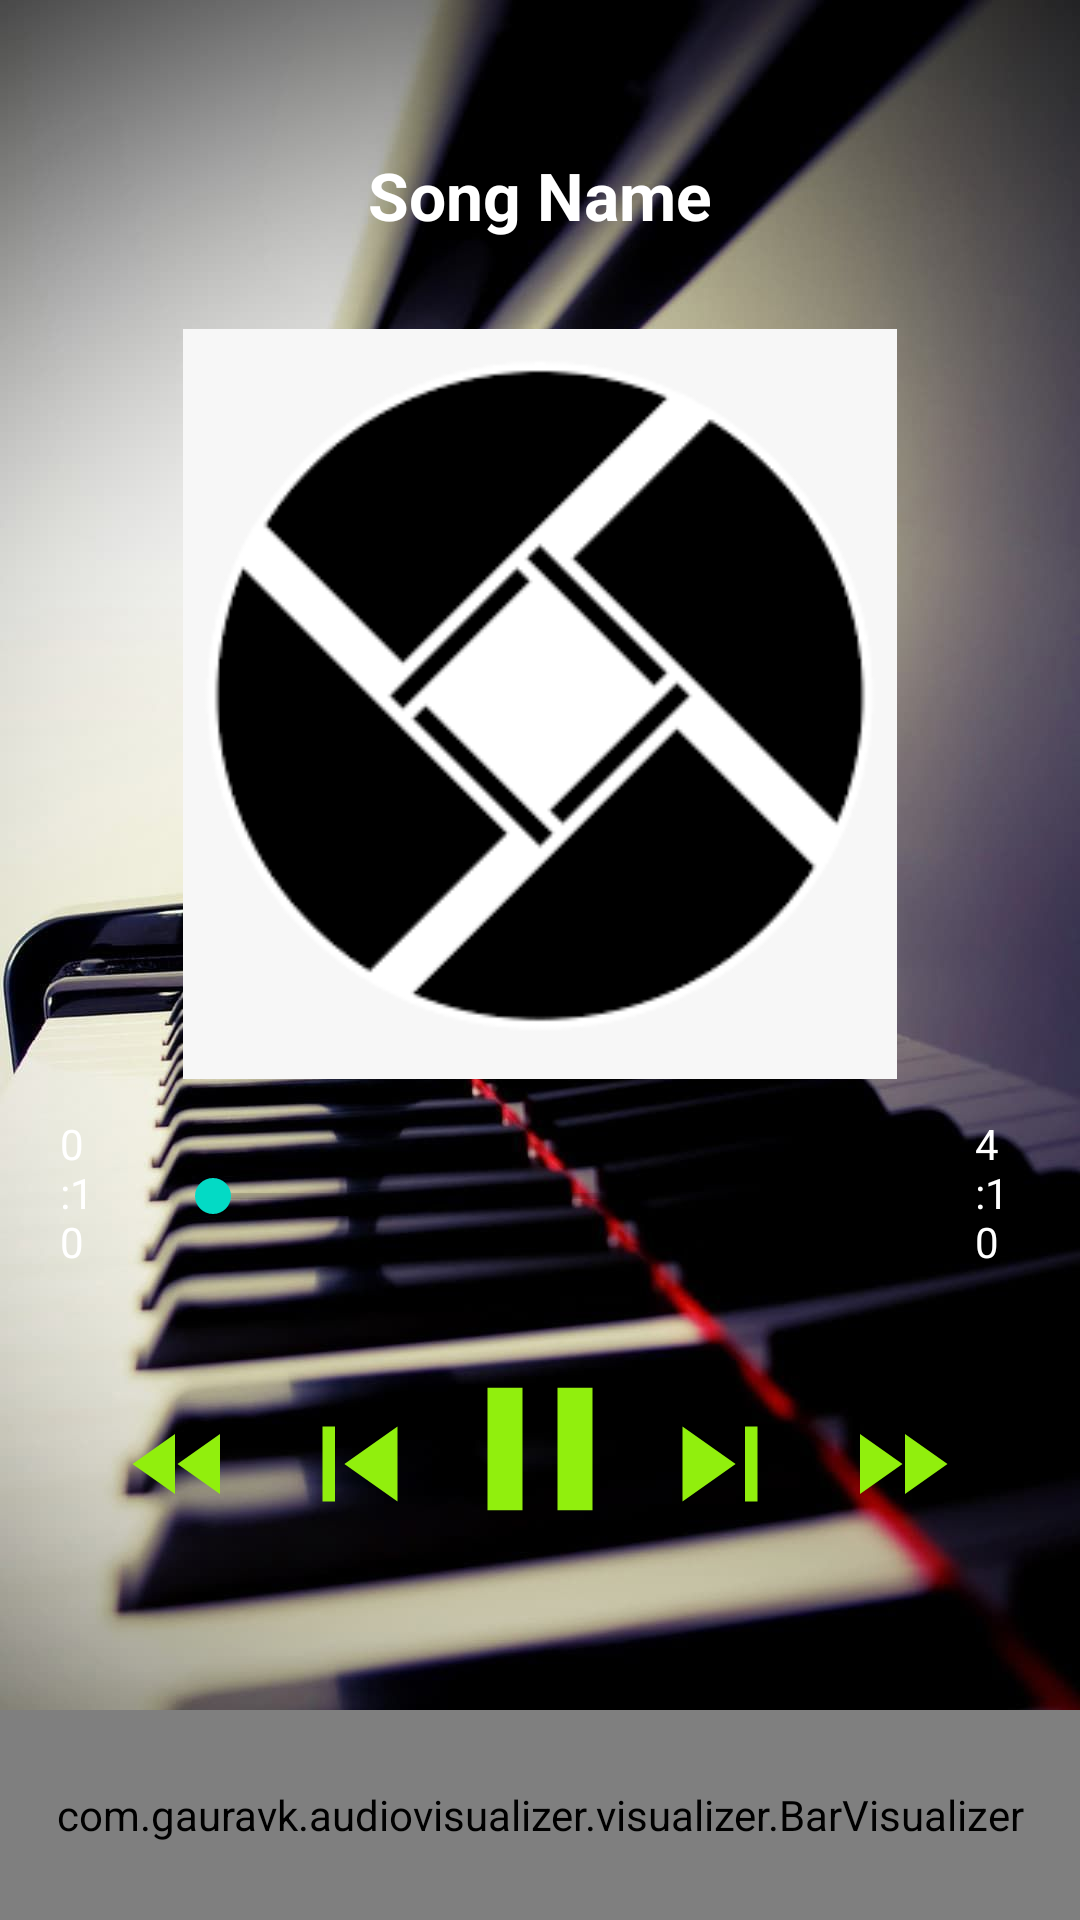

Screen size 1080w x 1920h. Icon name, then its center in pixels as [x,y]:
next: [720,1464]
pause: [540,1449]
previous: [341,1453]
